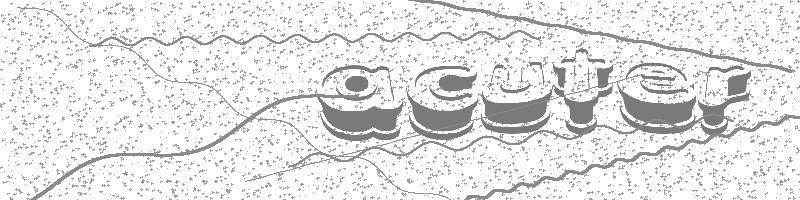a: (316, 64, 404, 143)
c: (406, 65, 479, 141)
e: (615, 61, 697, 135)
r: (696, 66, 752, 135)
t: (552, 45, 615, 135)
u: (479, 61, 553, 135)
